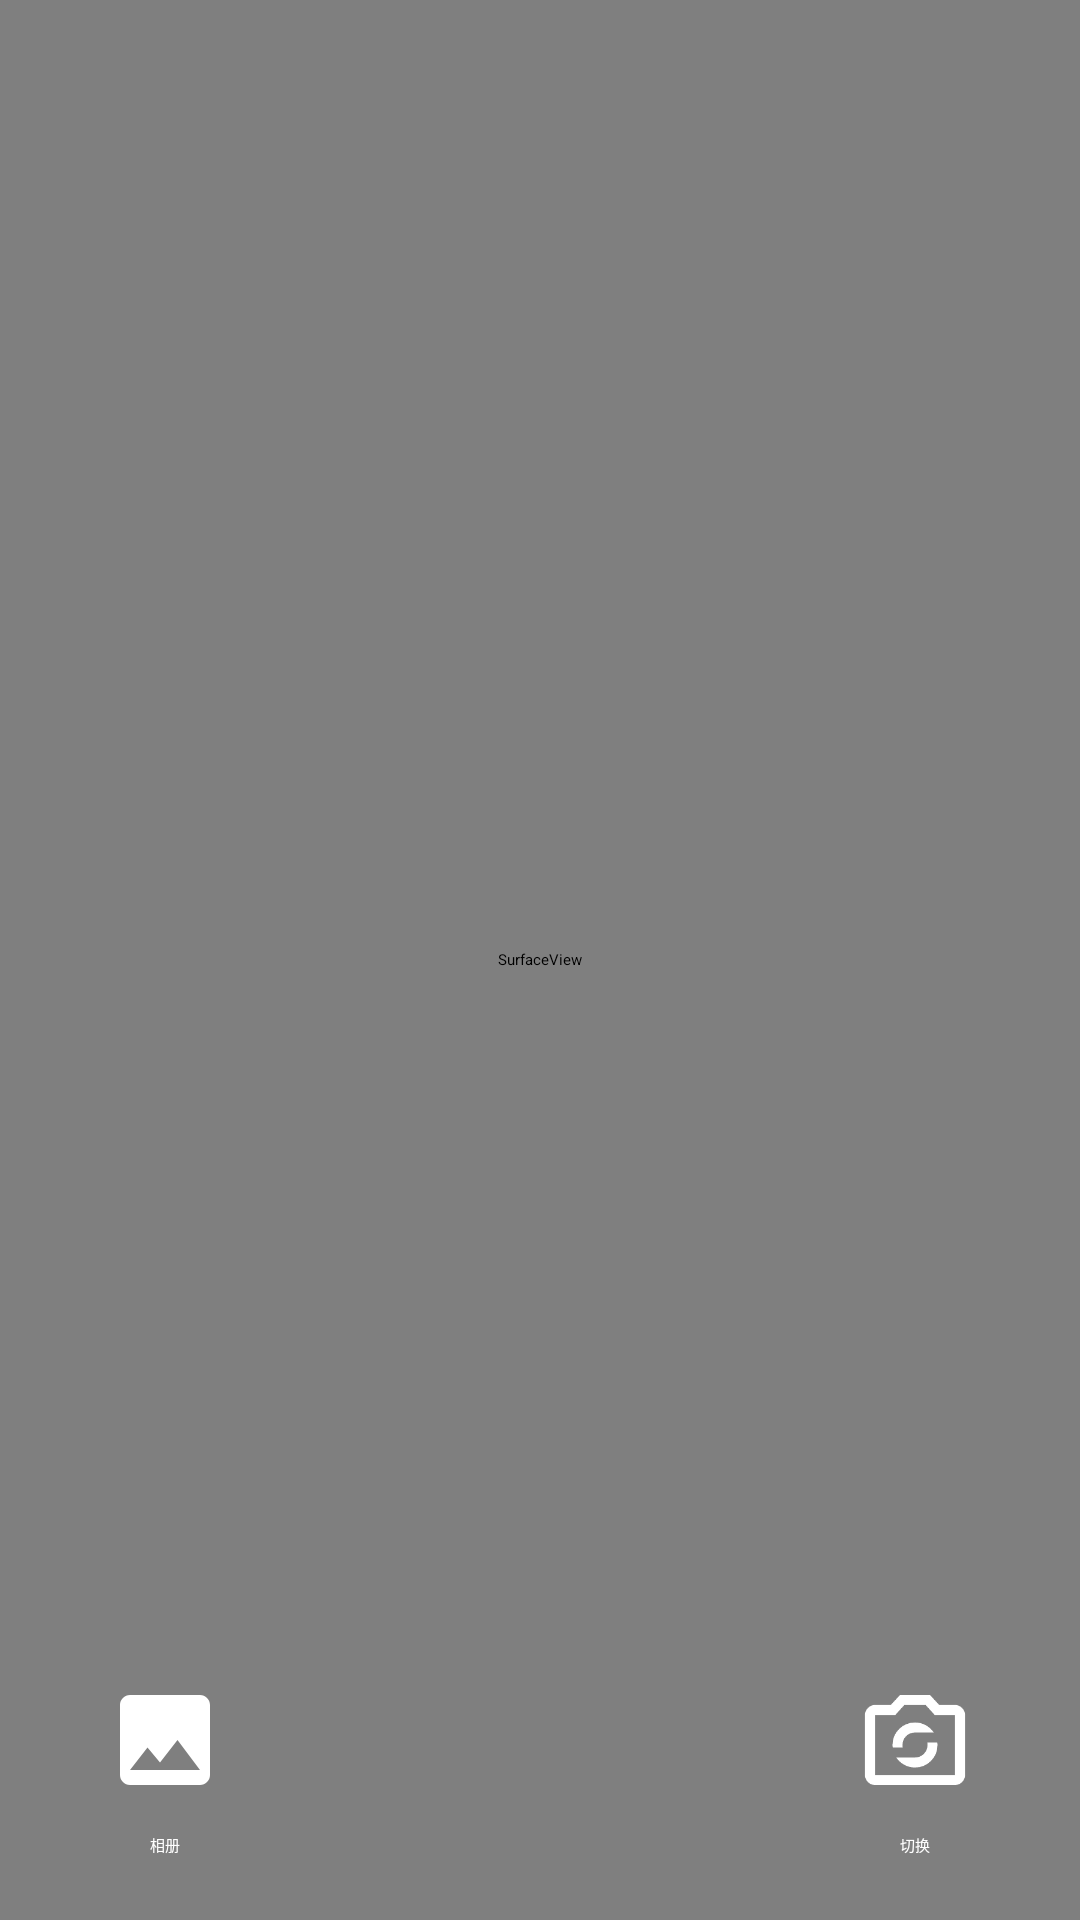

Icon click points for this 1080w x 1920h phone screenshot, format (x=x, y=y):
album: (x=165, y=1740)
switch: (x=915, y=1740)
